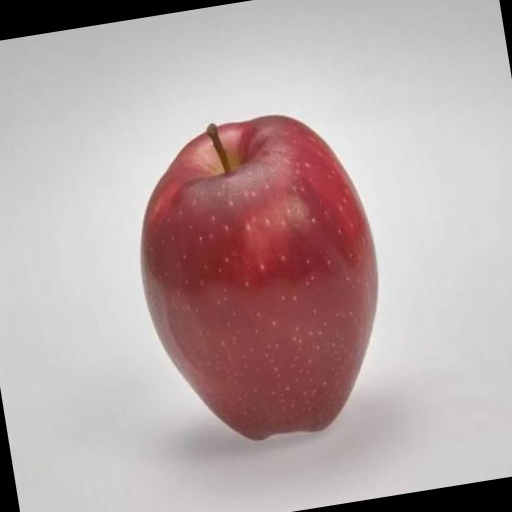fruit: (141, 116, 378, 439)
